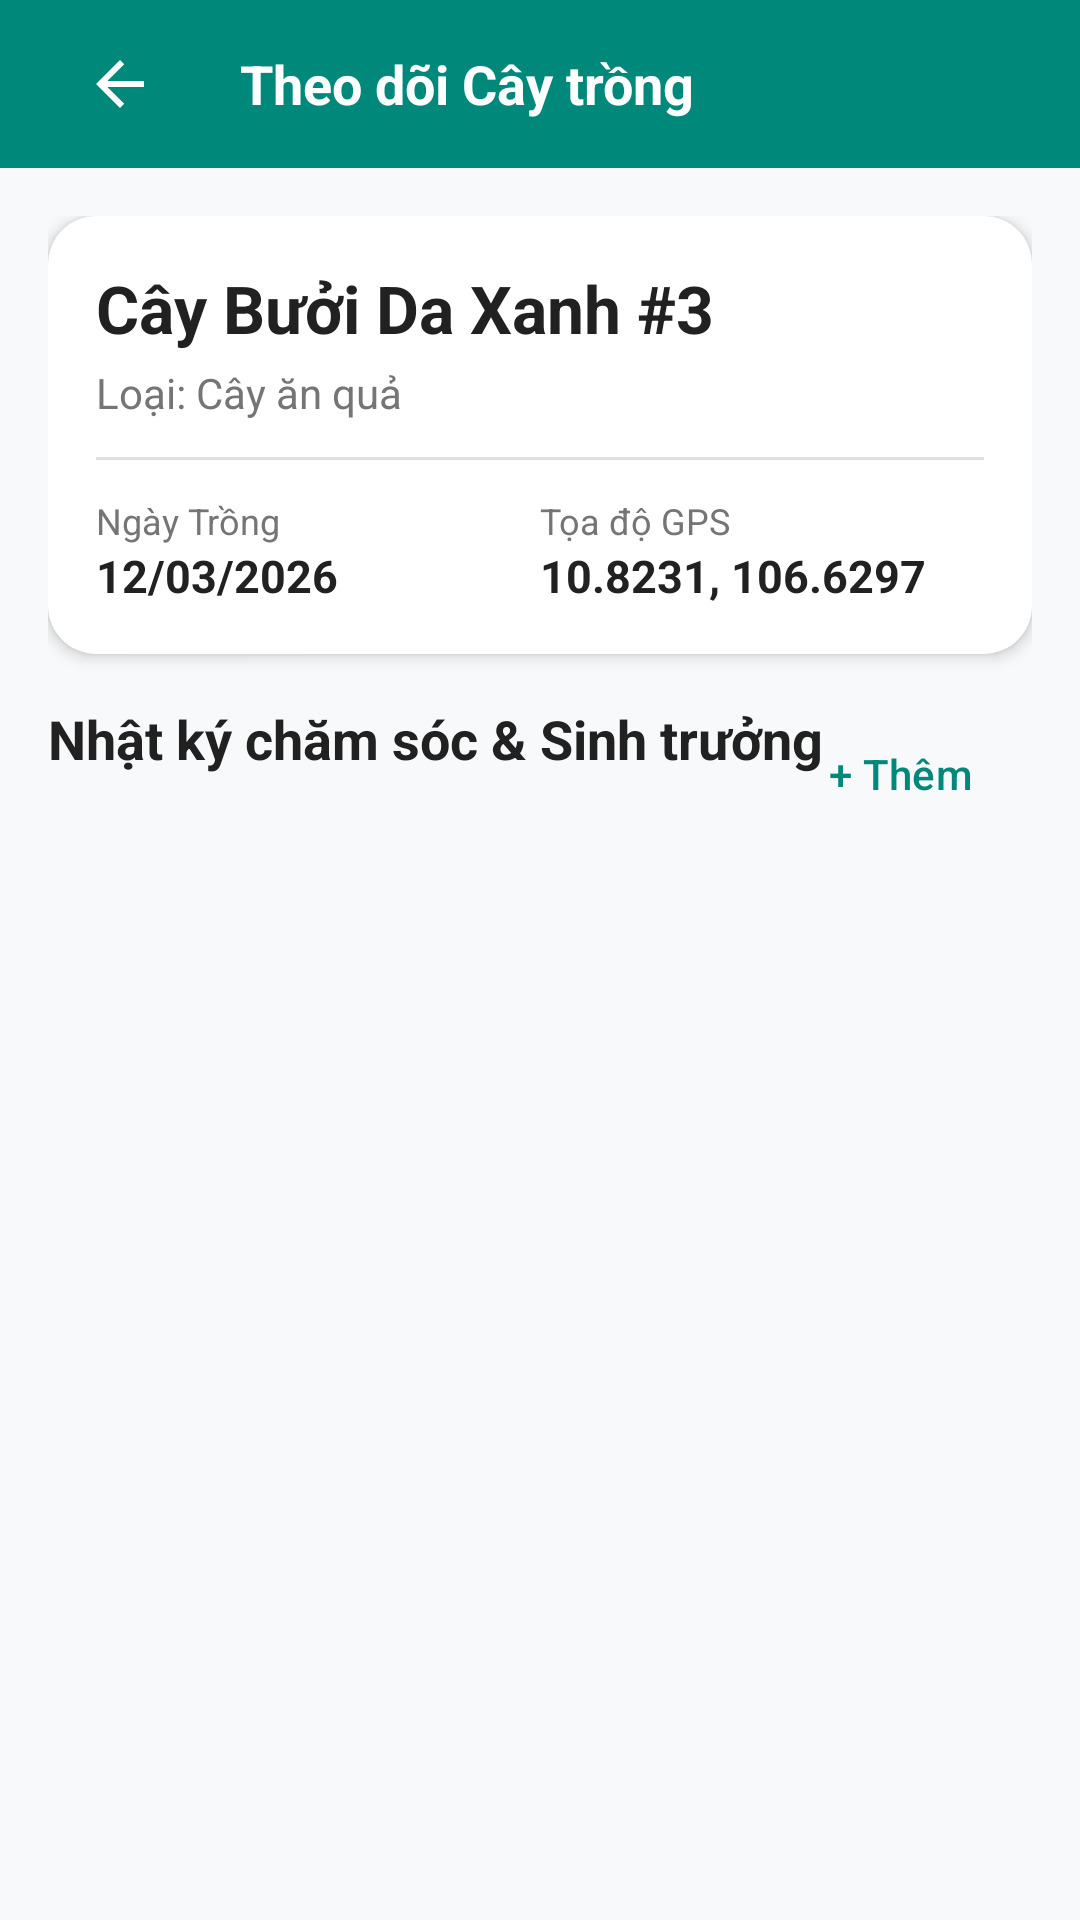

Where icons sit on this 1080 × 1920 app screen, as (x1, y1, x2, y2):
Quay lại: (96, 60, 144, 108)
